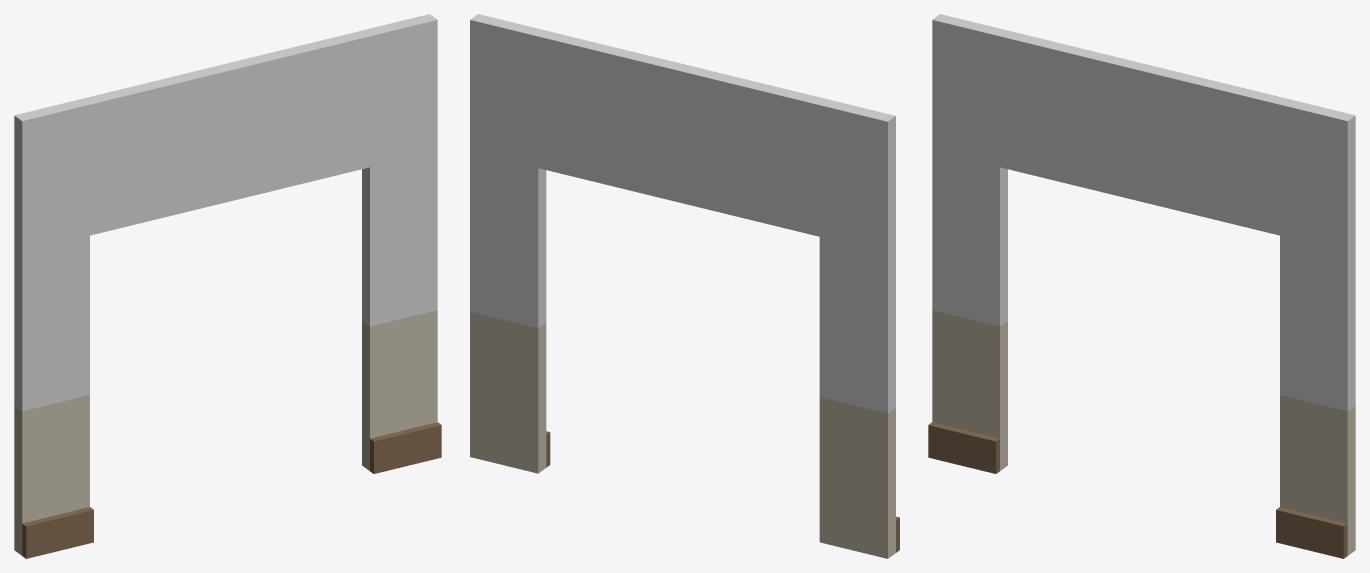
Rendered from Mesh_WallBaseboard2Colors_B4.fbx.
3 views of the same model, side by side, from view 1: azimuth 30°, elevation 25°; view 2: azimuth 150°, elevation 25°; view 3: azimuth 330°, elevation 25° (orthographic).
Visible parts, largest first — view 1: Mesh_WallBaseboard2Colors_B4; view 2: Mesh_WallBaseboard2Colors_B4; view 3: Mesh_WallBaseboard2Colors_B4.
Boxes of the visible parts, left/top/right/bottom form: Mesh_WallBaseboard2Colors_B4: left=14, top=14, right=441, bottom=558; Mesh_WallBaseboard2Colors_B4: left=470, top=14, right=899, bottom=558; Mesh_WallBaseboard2Colors_B4: left=928, top=14, right=1355, bottom=558.
Size of the model in its own units: 3 by 3 by 0.15.
